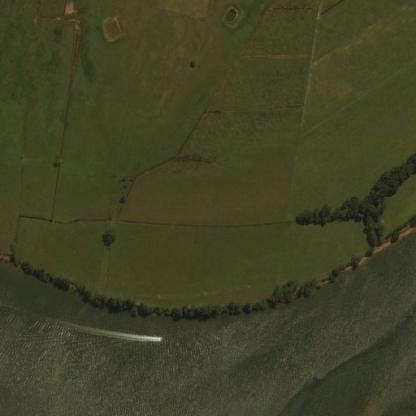ship: (153, 332, 165, 343)
